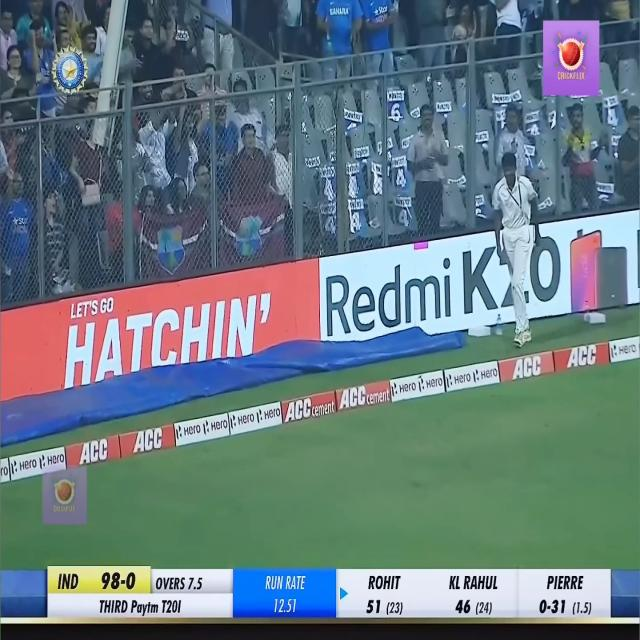partially_visible: (346, 101, 364, 125), (387, 88, 406, 106)
